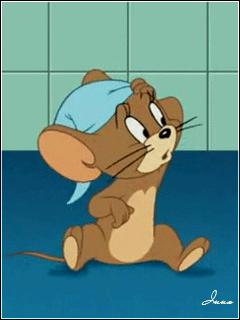jerry: (7, 69, 211, 273)
